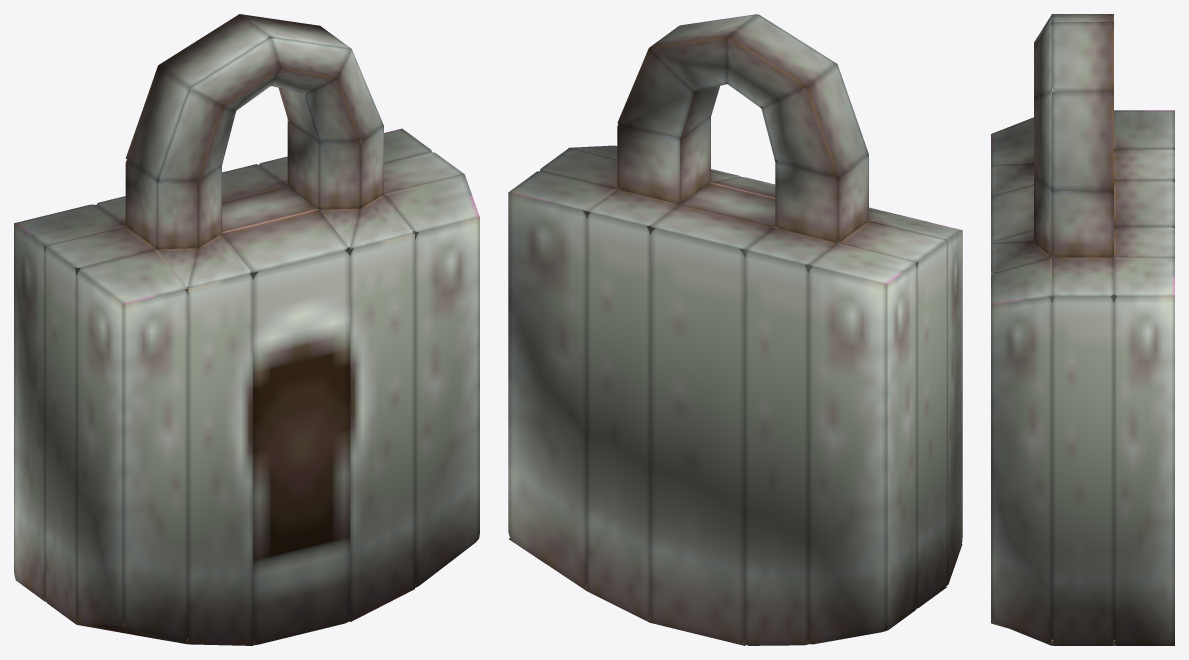
3 renders of one model, left to right at view 1: azimuth 30°, elevation 25°; view 2: azimuth 150°, elevation 25°; view 3: azimuth 270°, elevation 25°, orthographic. The views are drawn at different scales.
Parts seen in each view (by area): view 1: T1L4M003_39; view 2: T1L4M003_39; view 3: T1L4M003_39.
Part boxes in pixels (left/top/right/bottom): T1L4M003_39: left=14, top=14, right=479, bottom=645; T1L4M003_39: left=508, top=14, right=962, bottom=645; T1L4M003_39: left=991, top=14, right=1174, bottom=645.
Size of the model in its own units: 0.4795 by 0.6973 by 0.2002.
